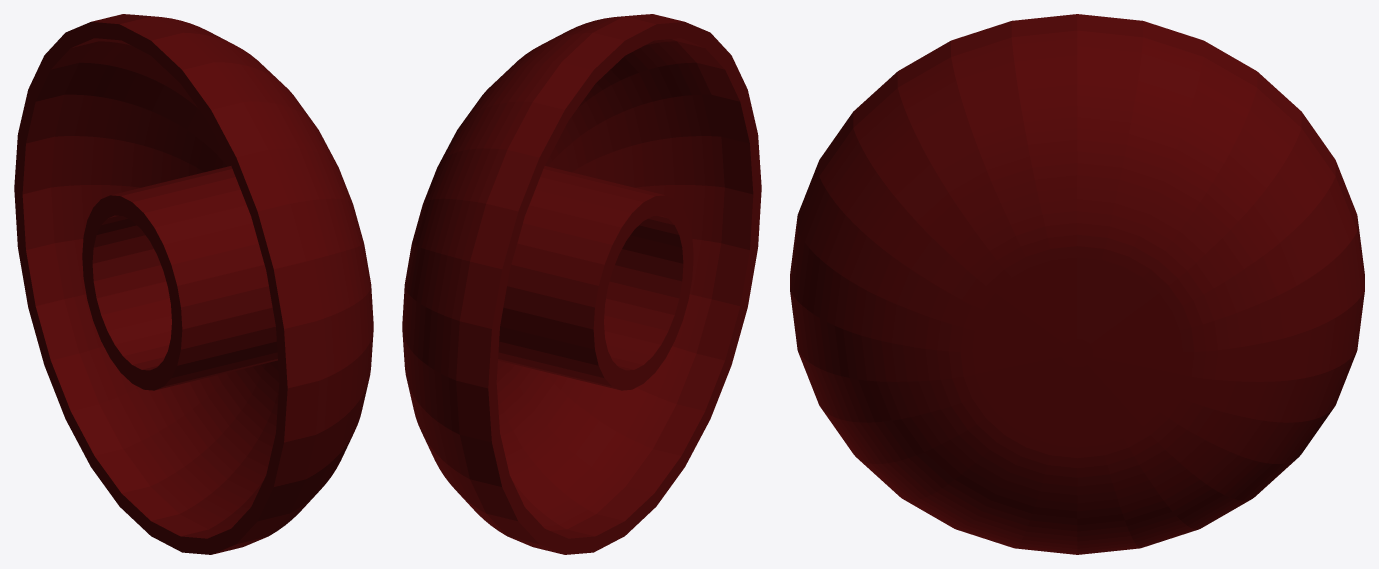
Rendered from Magnit.fbx.
3 views of the same model, side by side, from view 1: azimuth 30°, elevation 25°; view 2: azimuth 150°, elevation 25°; view 3: azimuth 270°, elevation 25° (orthographic). The views are drawn at different scales.
Visible parts, largest first — view 1: Magnit; view 2: Magnit; view 3: Magnit.
Boxes of the visible parts, <box> form: Magnit: <box>14,14,373,554</box>; Magnit: <box>402,14,761,554</box>; Magnit: <box>790,14,1364,554</box>.
Size of the model in its own units: 8.86 by 24.38 by 24.38.
